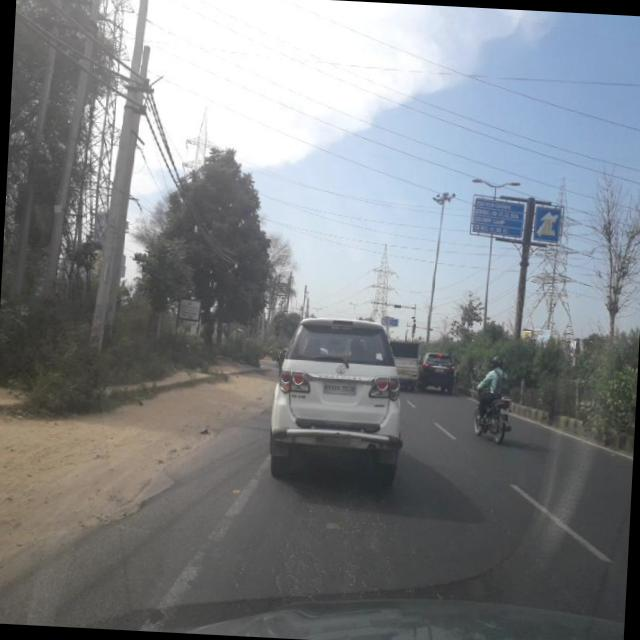crack: (261, 471, 462, 611)
